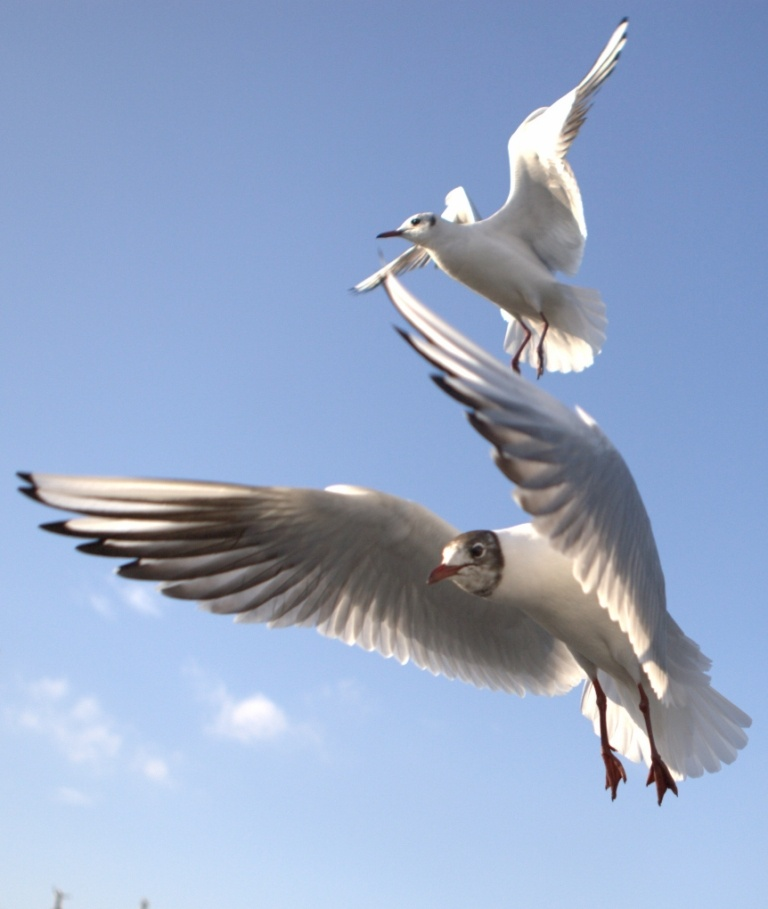bird: (24, 248, 765, 805), (318, 15, 658, 376)
